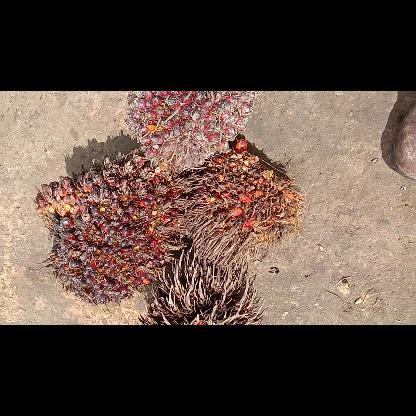Janjang kosong: (140, 252, 266, 322)
Kurang masak: (122, 91, 258, 173)
TBS masak: (32, 150, 184, 307)
Terlalu masak: (180, 138, 310, 270)
